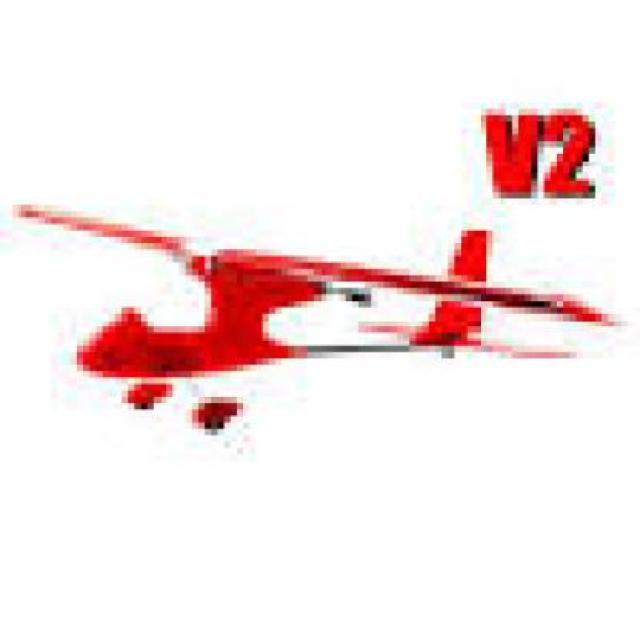iha: (17, 189, 617, 461)
